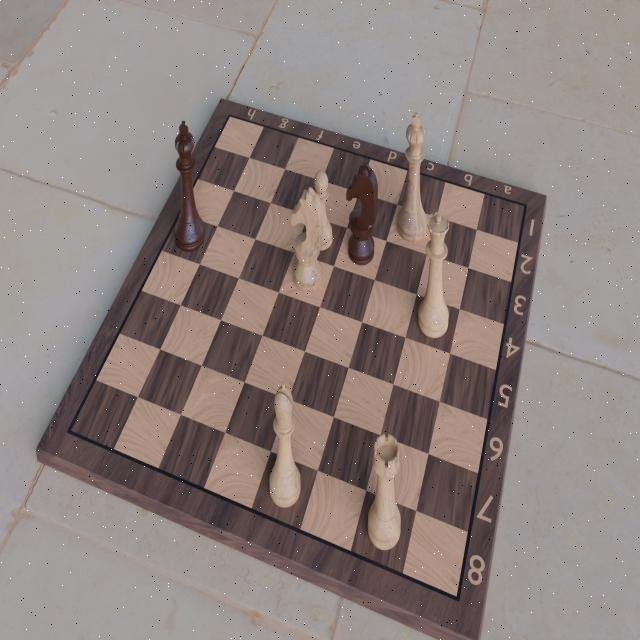black-king: (169, 116, 207, 257)
black-knight: (344, 162, 380, 274)
white-bishop: (264, 377, 305, 507)
white-king: (393, 109, 430, 243)
white-knight: (288, 182, 325, 291)
white-pawn: (304, 166, 337, 254)
white-queen: (414, 205, 453, 343)
white-rook: (366, 432, 406, 550)
